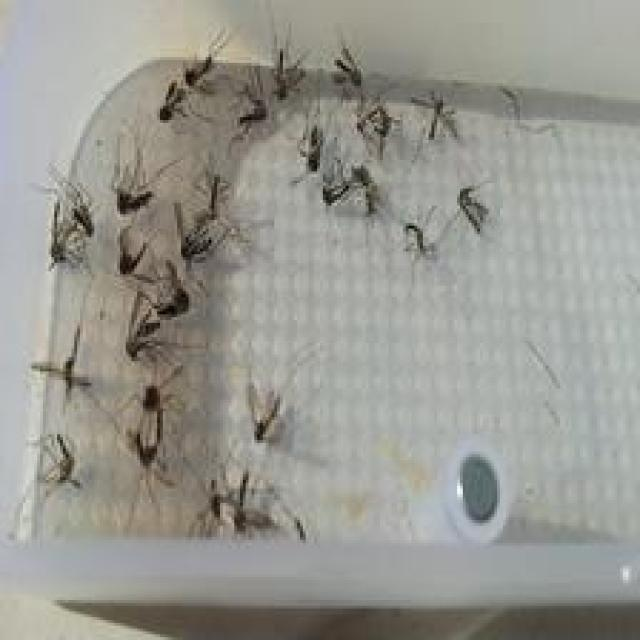Aedes albopictus: (8, 0, 640, 551)
